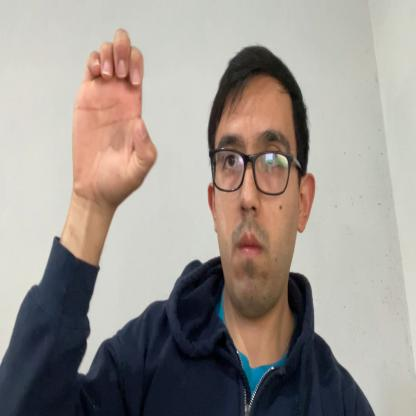E: (72, 26, 158, 211)
